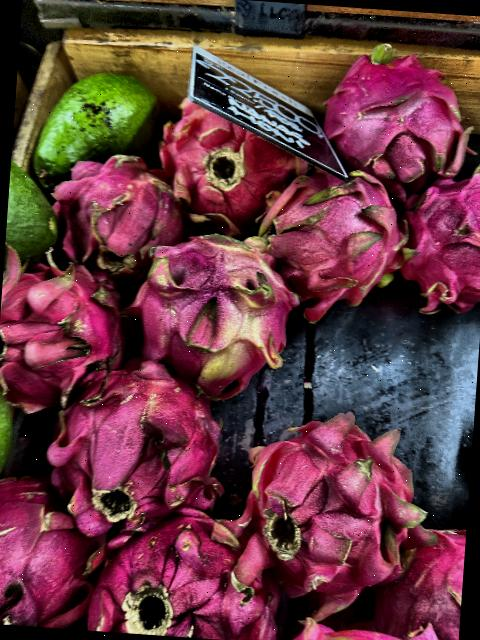buah-naga-belum-matang: (140, 229, 296, 378)
buah-naga-matang: (226, 394, 416, 596), (45, 356, 224, 516), (91, 503, 283, 640), (0, 234, 135, 411), (253, 160, 406, 314), (326, 37, 462, 183), (44, 144, 186, 272), (154, 92, 287, 218), (0, 467, 101, 630), (391, 163, 480, 310), (380, 513, 466, 640)
